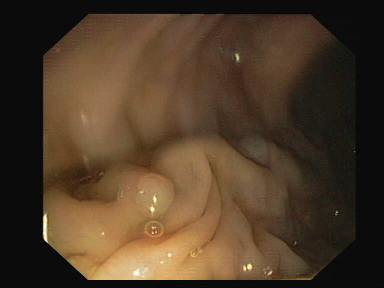polyp: (137, 172, 178, 213), (240, 135, 271, 167)
